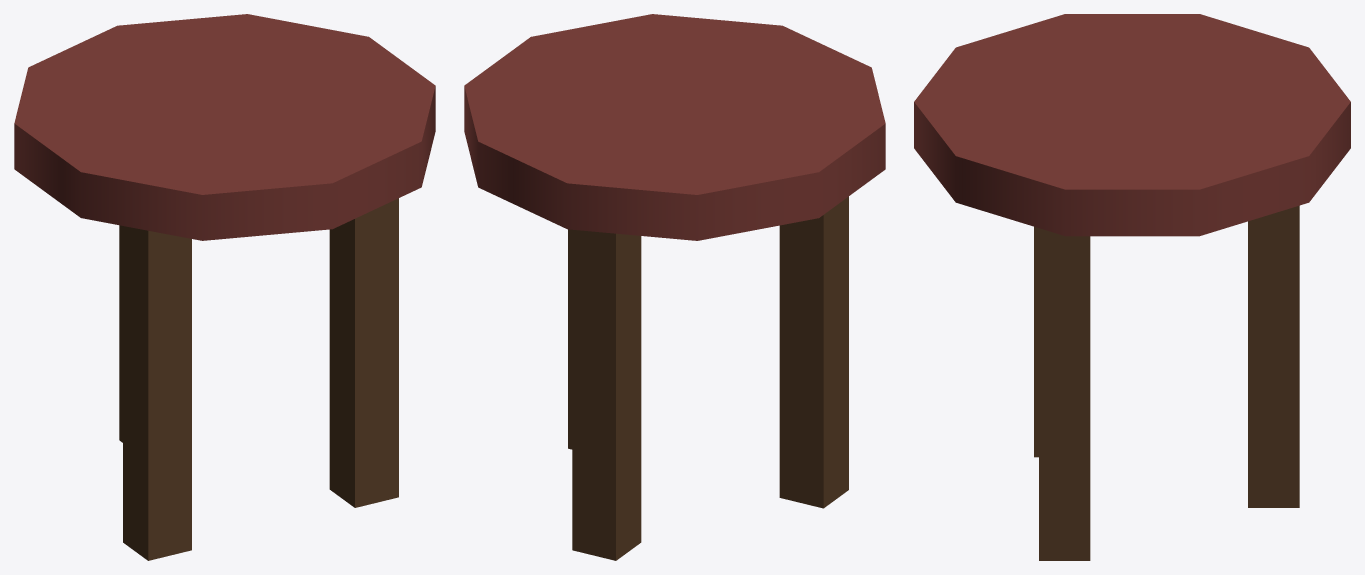
File: stool.glb
The picture shows the model from 3 angles, left to right: view 1: azimuth 30°, elevation 25°; view 2: azimuth 150°, elevation 25°; view 3: azimuth 270°, elevation 25°; orthographic projection.
Parts seen in each view (by area): view 1: #7a3a34, #5a3e26; view 2: #7a3a34, #5a3e26; view 3: #7a3a34, #5a3e26.
Boxes of the visible parts, <box> form: #7a3a34: <box>14,14,435,240</box>; #5a3e26: <box>119,198,398,560</box>; #7a3a34: <box>464,14,885,240</box>; #5a3e26: <box>568,196,848,560</box>; #7a3a34: <box>914,14,1350,236</box>; #5a3e26: <box>1034,205,1299,560</box>.
Bounding box in the file's own units: 0.3234 × 0.34 × 0.34.
